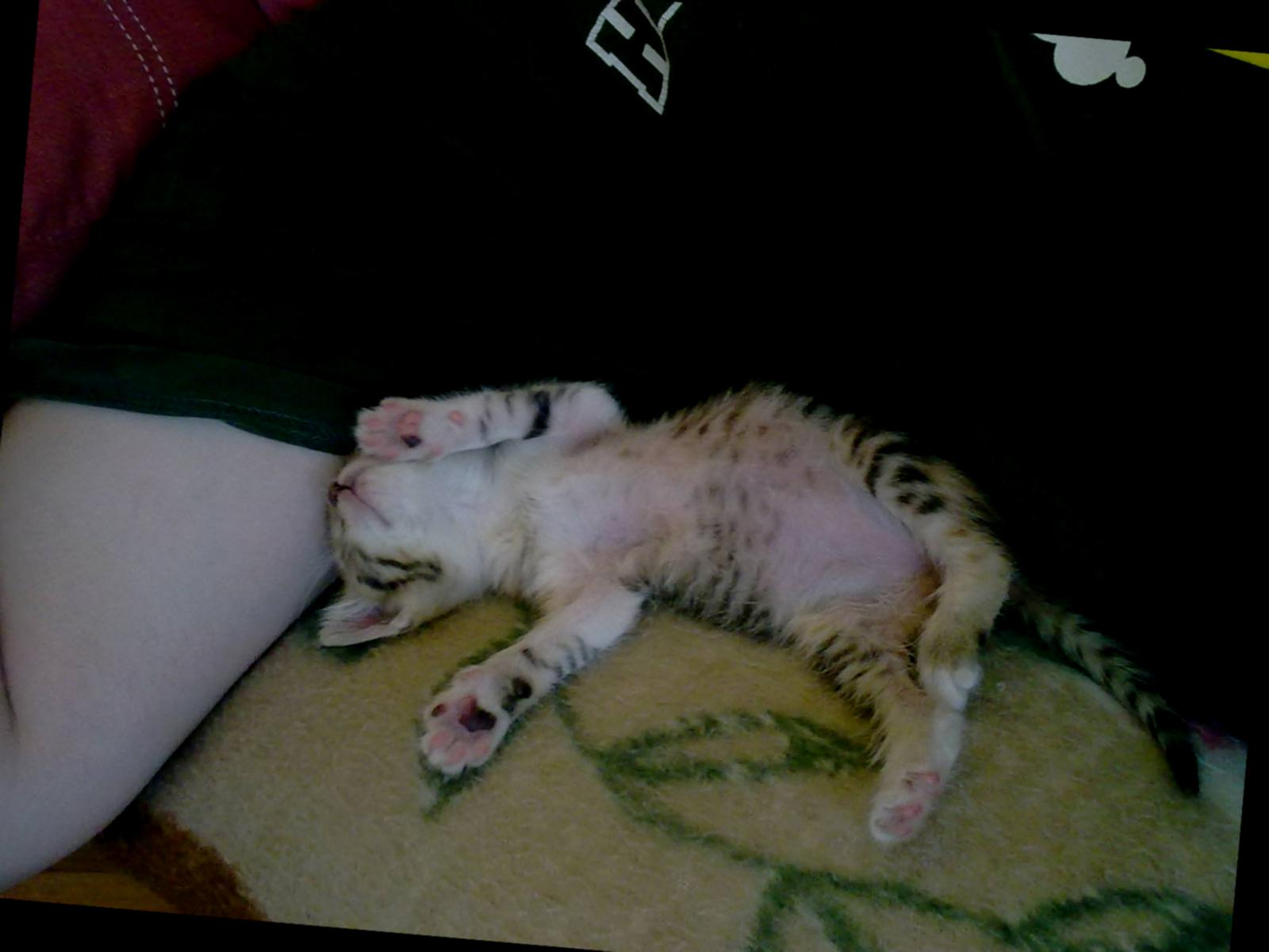macka: (303, 330, 1242, 881)
